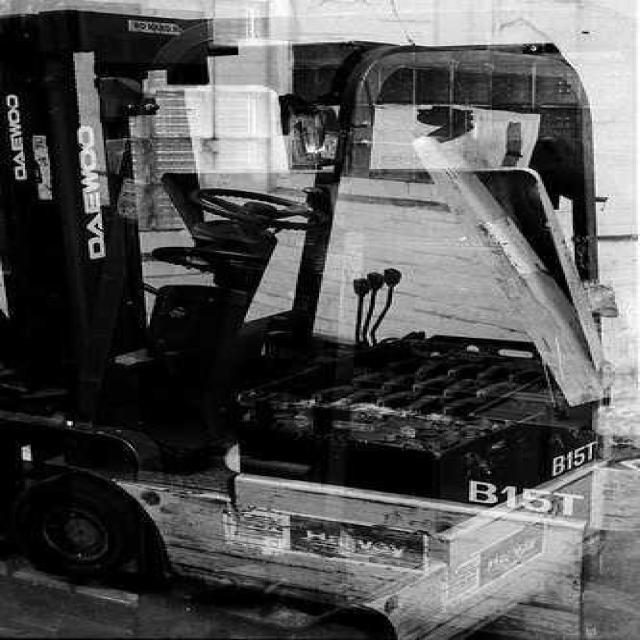forklift: (0, 12, 609, 638)
